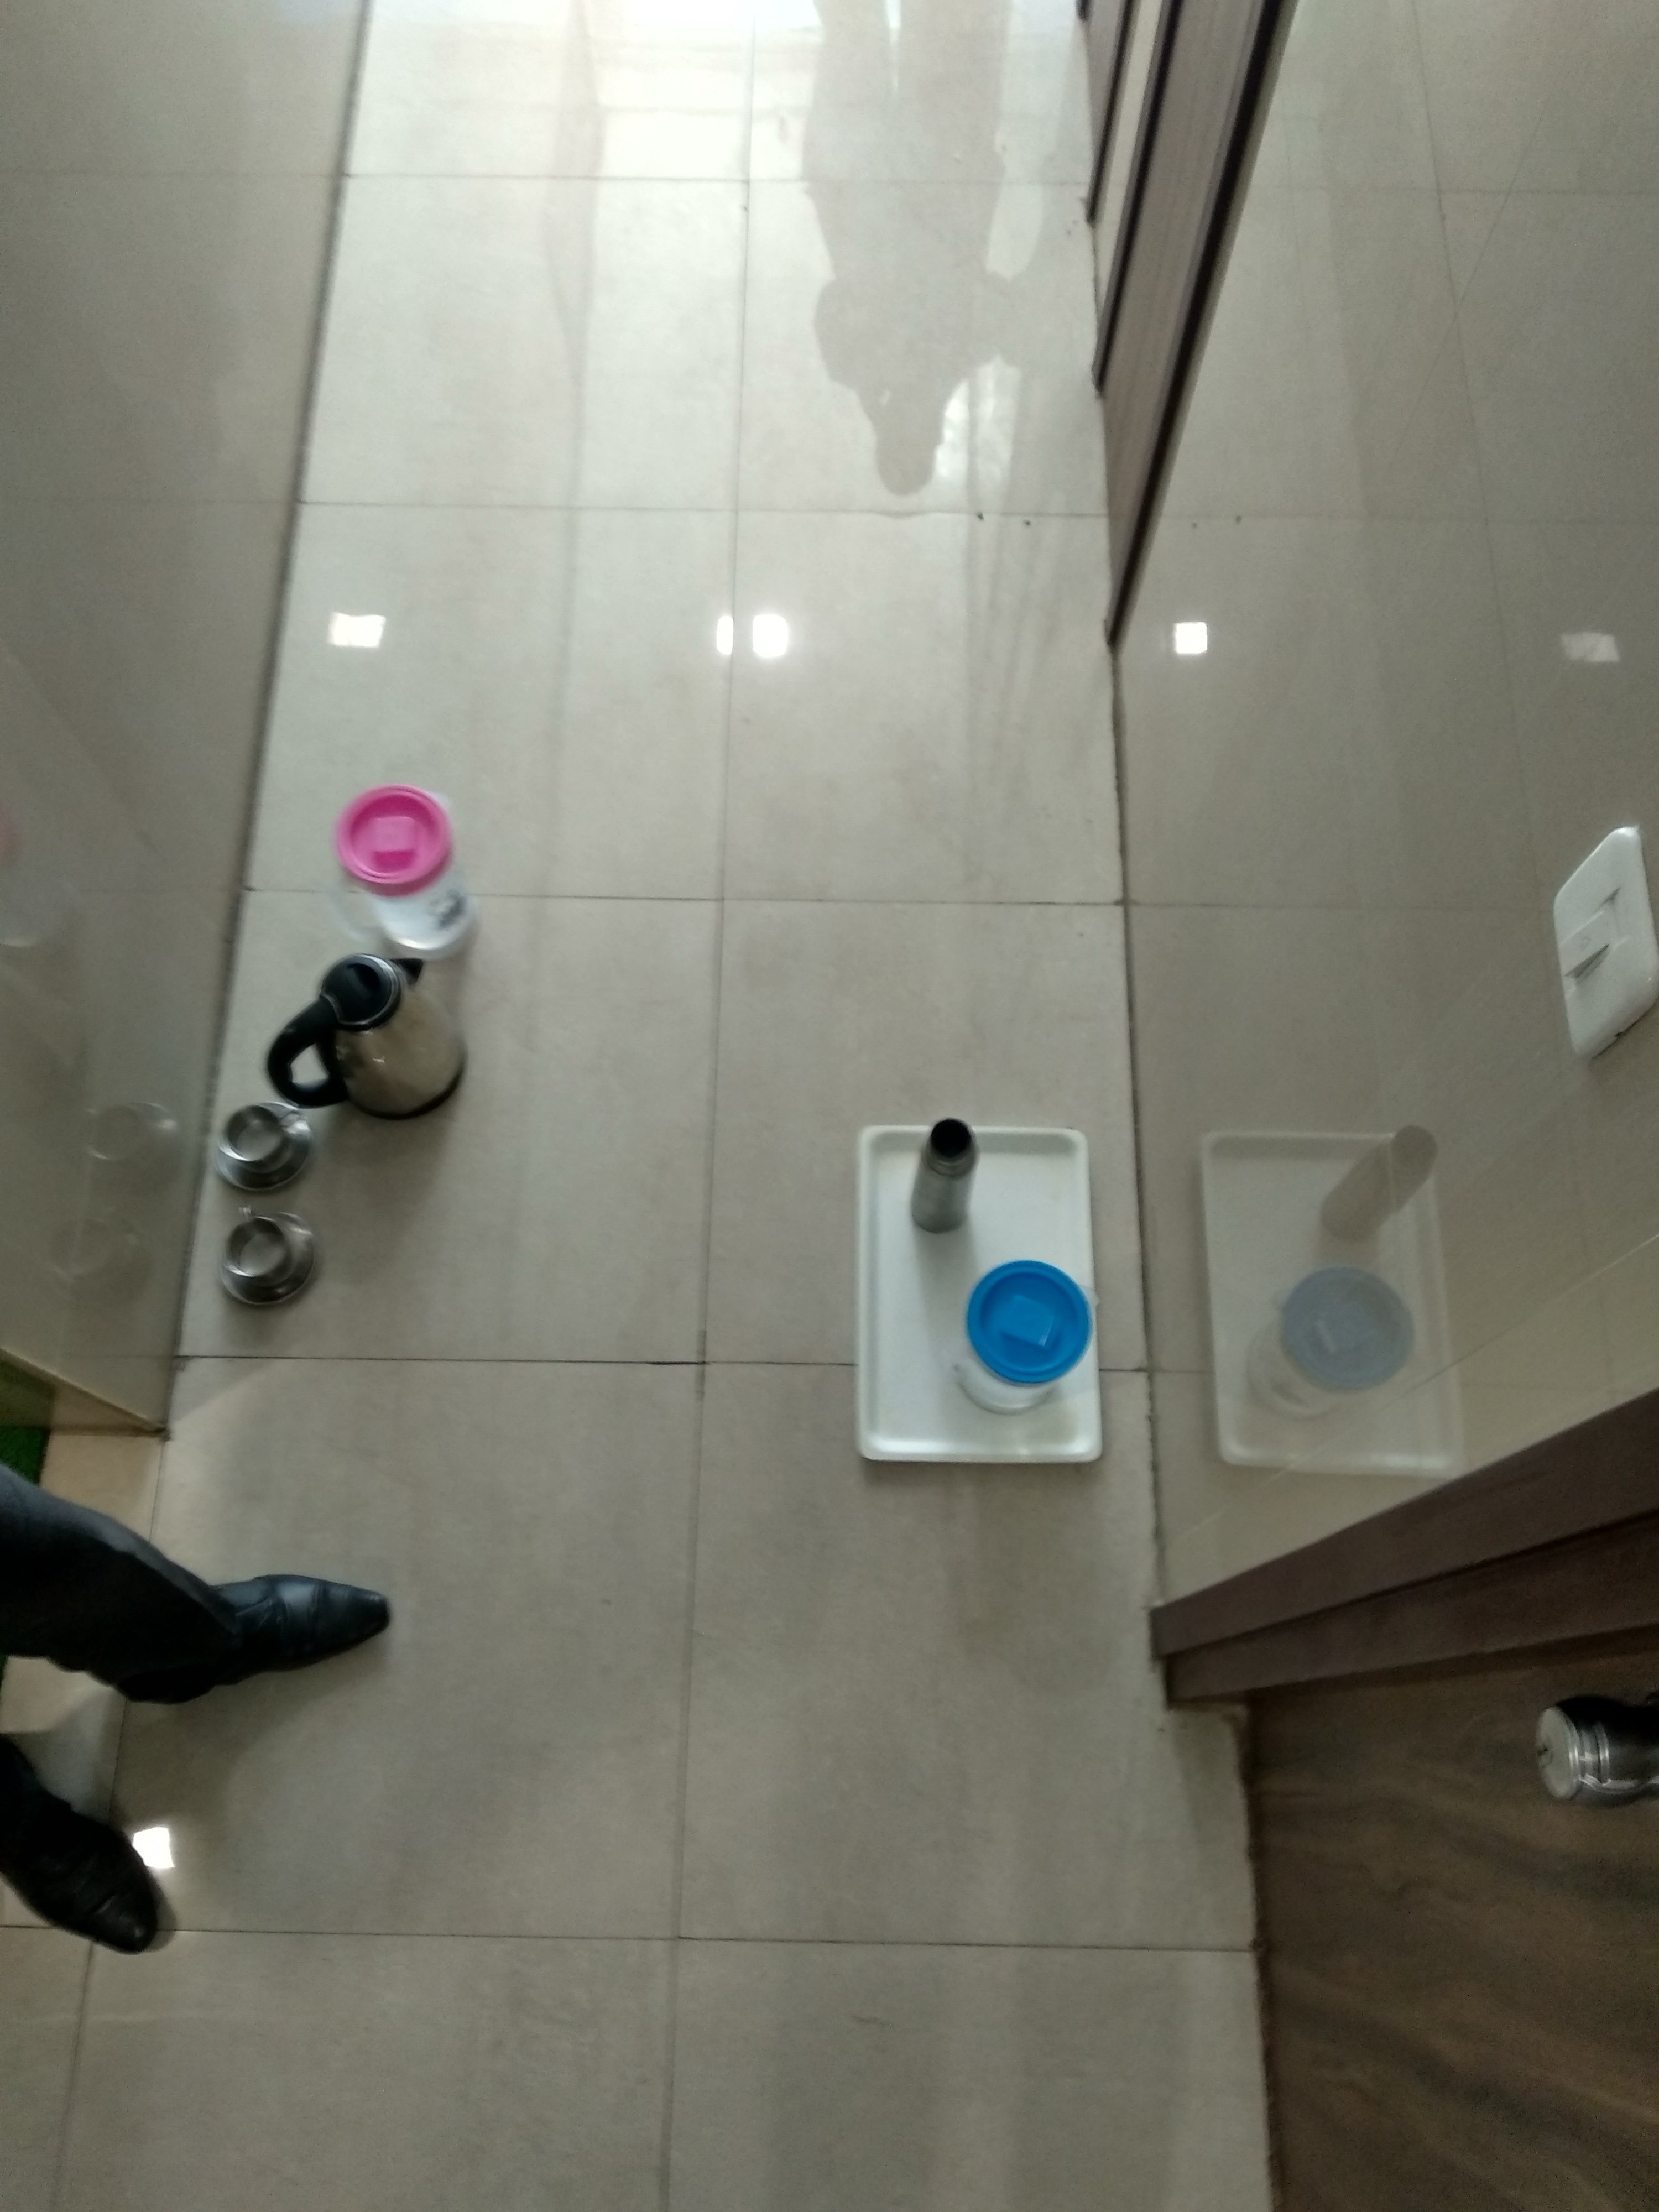CUP: (214, 1202, 322, 1313), (199, 1101, 317, 1193)
FLASK: (906, 1104, 981, 1242)
JUG: (267, 941, 474, 1115), (308, 787, 490, 916), (962, 1252, 1096, 1406)
